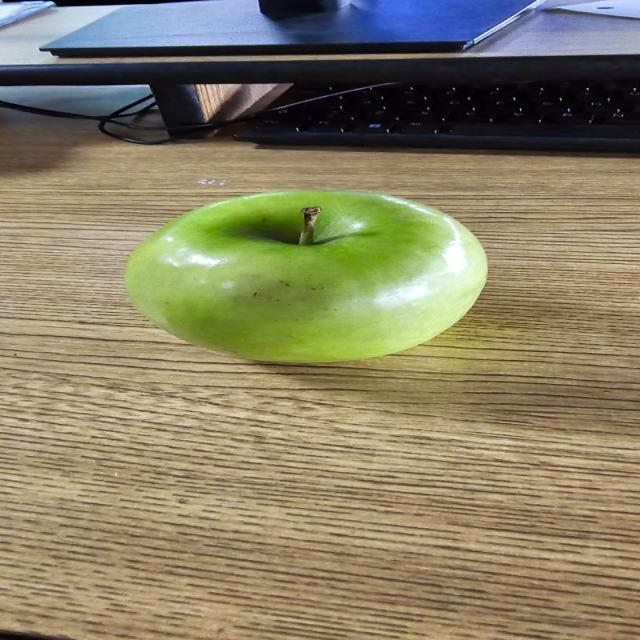Apel Granny Smith: (111, 185, 504, 370)
